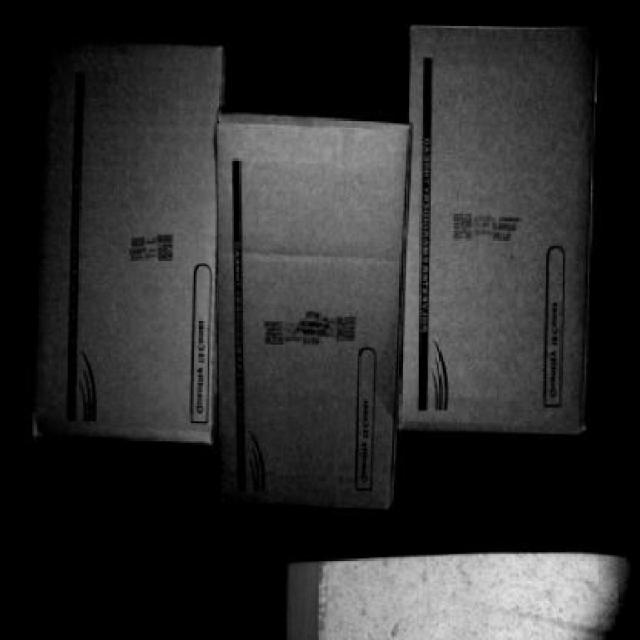cardboxes: (398, 19, 598, 426), (216, 126, 407, 505), (32, 44, 213, 430)
